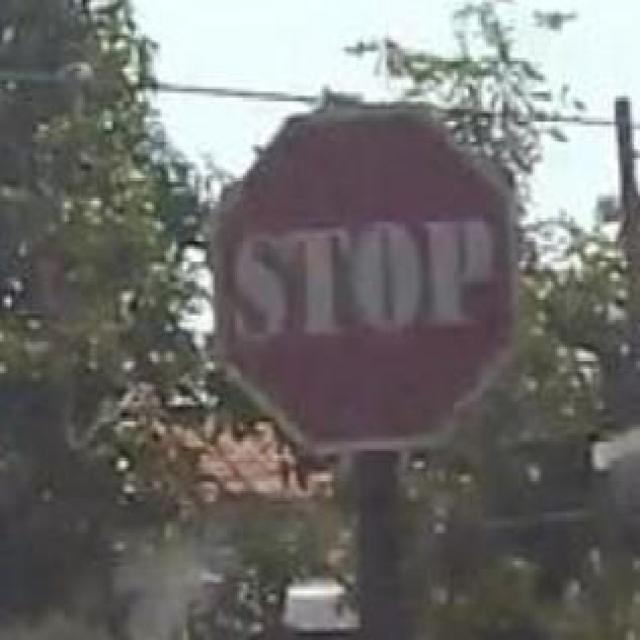traffic sign: (219, 118, 523, 447)
